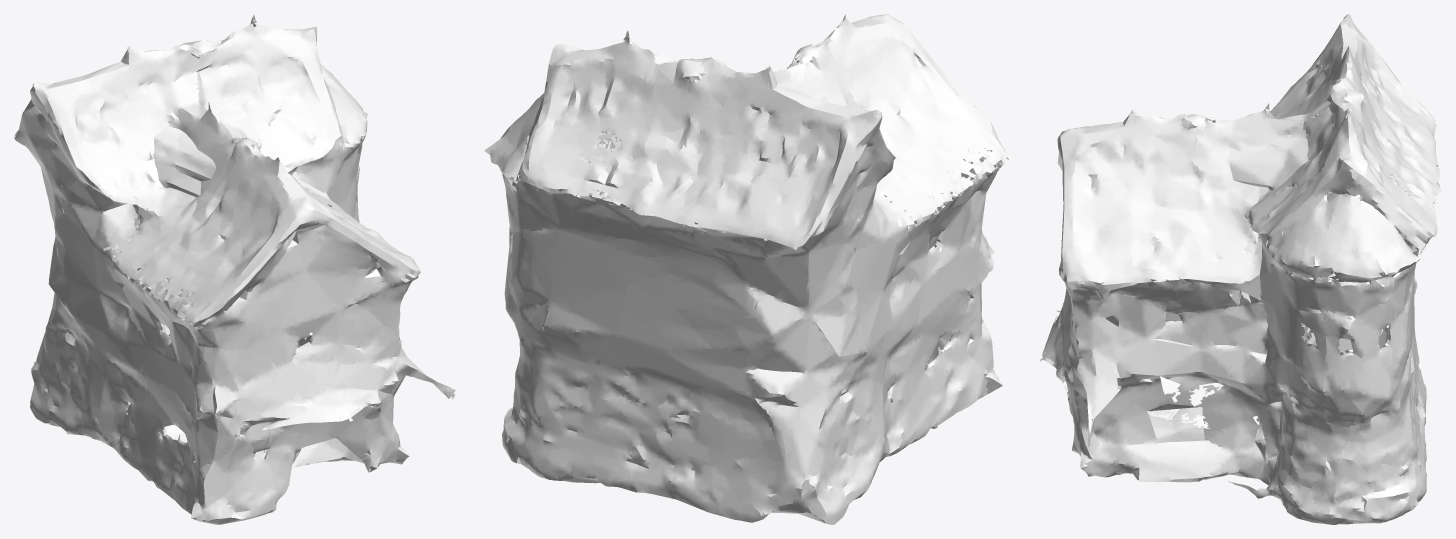
The model's file is house_two_b.glb.
3 views of the same model, side by side, from view 1: azimuth 30°, elevation 25°; view 2: azimuth 150°, elevation 25°; view 3: azimuth 270°, elevation 25° (orthographic). The views are drawn at different scales.
Parts seen in each view (by area): view 1: output_unwrapped; view 2: output_unwrapped; view 3: output_unwrapped.
Boxes of the visible parts, x1,y1,x2,y2 form: output_unwrapped: (14,14,455,524); output_unwrapped: (484,14,1010,524); output_unwrapped: (1039,14,1441,524).
Bounding box in the file's own units: 9.13 × 10 × 9.66.
1 material, 1 textured.
